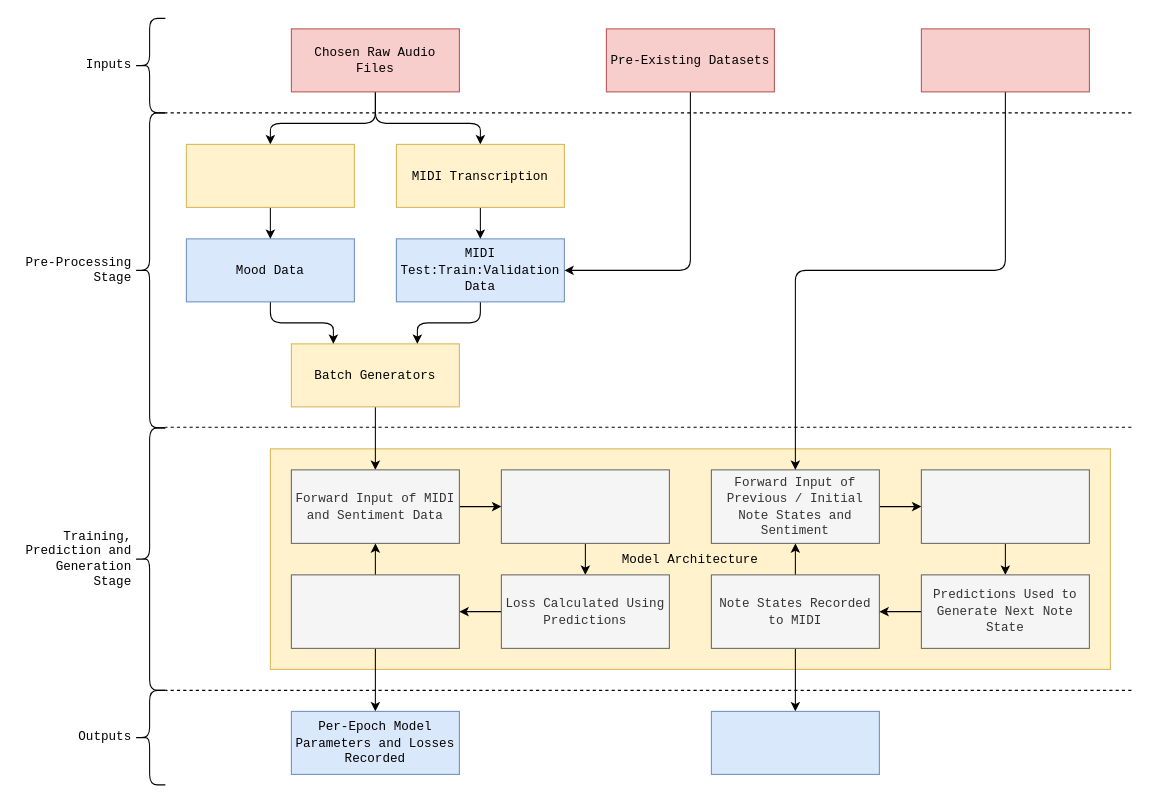
This 1151x803 diagram has some shape labels left out. The centre of each missing label's shape, as x and y in pixels:
"Input of a User's Sentiment and Trained Model Parameters" belongs at point 1004,60.
"MIDI File Output" belongs at point 794,742.
"Optimisation Utilising Step-Loss Values and BPTT" belongs at point 374,611.
"Predictions Made Based on Input" belongs at point 1004,506.
"Sentiment Analysis" belongs at point 269,175.
"Training Step Predictions Made" belongs at point 584,506.
